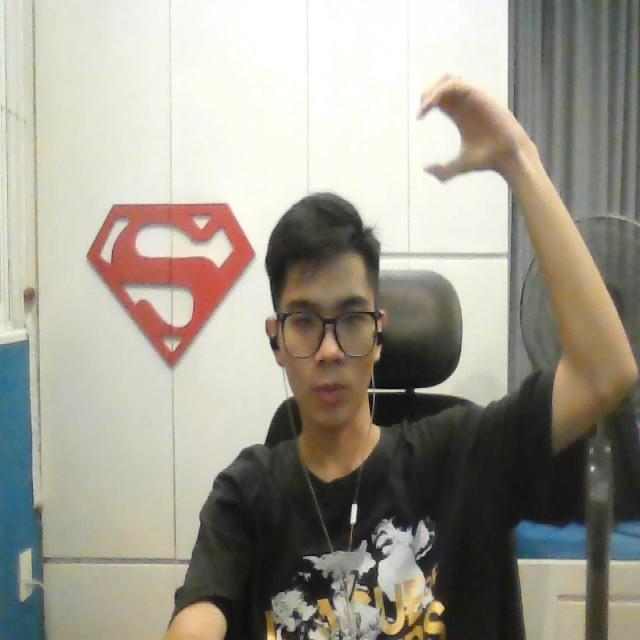C: (414, 79, 494, 186)
